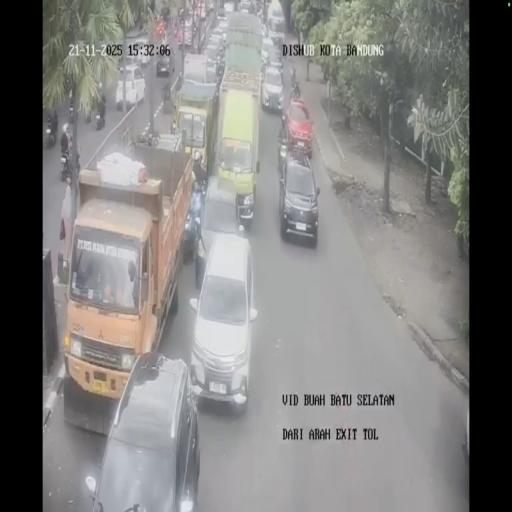3: (62, 132, 192, 406), (172, 64, 218, 178), (223, 10, 264, 79), (176, 18, 194, 48)
car: (195, 174, 247, 281), (279, 150, 319, 246), (283, 98, 313, 157), (116, 64, 146, 108), (260, 64, 283, 112), (202, 41, 222, 81), (266, 0, 286, 32), (156, 44, 175, 76), (129, 40, 150, 68), (267, 29, 285, 56), (216, 16, 229, 37), (239, 0, 252, 13), (223, 1, 235, 14), (206, 0, 214, 14)
truck: (277, 122, 287, 175), (60, 149, 72, 182), (44, 116, 56, 148), (94, 104, 106, 130), (72, 144, 81, 177), (290, 73, 300, 100), (256, 2, 266, 24), (84, 96, 92, 123), (68, 99, 76, 124), (192, 10, 199, 31)
